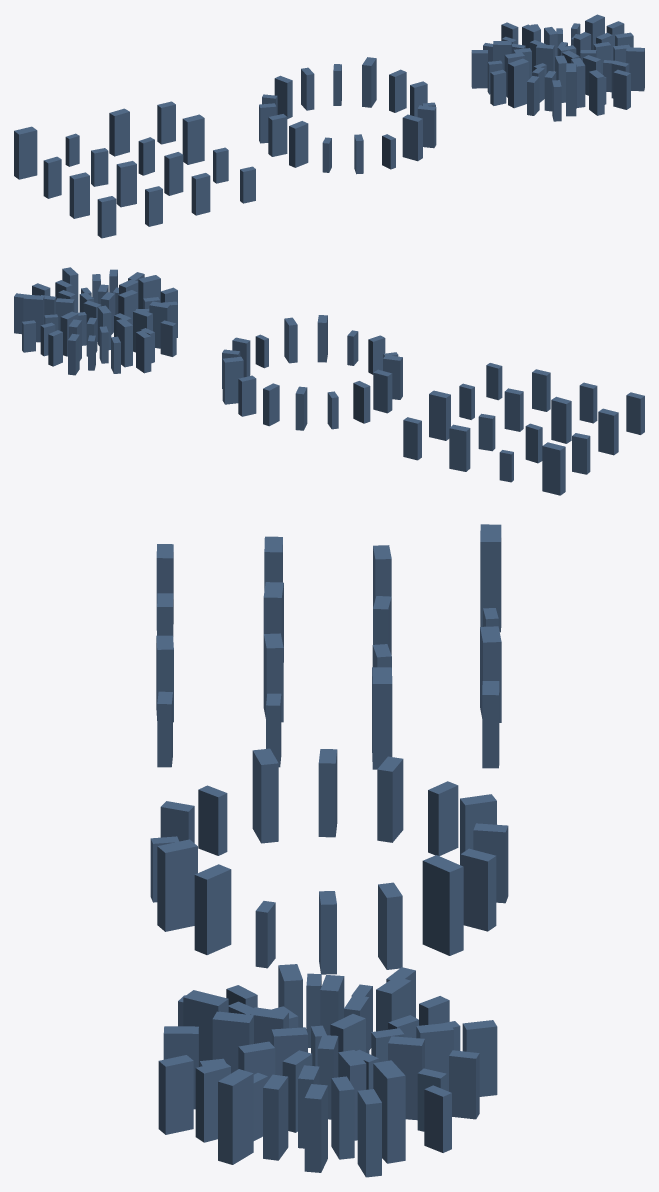
Rendered from dist_patterns.glb.
The picture shows the model from 3 angles, top to bottom: view 1: azimuth 30°, elevation 25°; view 2: azimuth 150°, elevation 25°; view 3: azimuth 270°, elevation 25°; orthographic projection. The views are drawn at different scales.
Parts seen in each view (by area): view 1: peg.001; view 2: peg.001; view 3: peg.001.
Part boxes in pixels (box(x1,y1,x2,y2)): peg.001: box(14, 14, 644, 238); peg.001: box(14, 267, 644, 495); peg.001: box(150, 524, 508, 1177).
Size of the model in its own units: 0.4089 by 0.0306 by 0.1098.
